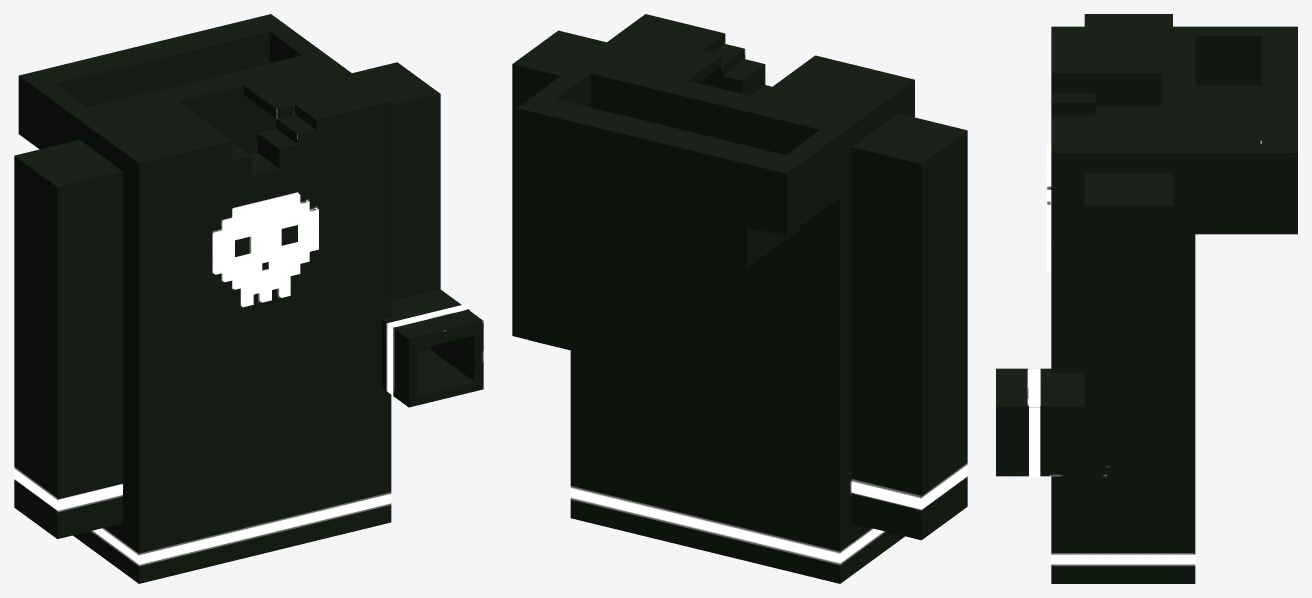
Rendered from skull_hoodie.glb.
3 renders of one model, left to right at view 1: azimuth 30°, elevation 25°; view 2: azimuth 150°, elevation 25°; view 3: azimuth 270°, elevation 25°, orthographic. The views are drawn at different scales.
Visible parts, largest first — view 1: hoodie_skull.001; view 2: hoodie_skull.001; view 3: hoodie_skull.001.
Part boxes in pixels (x1=…): hoodie_skull.001: x1=14, y1=14, x2=483, y2=583; hoodie_skull.001: x1=512, y1=14, x2=967, y2=583; hoodie_skull.001: x1=996, y1=14, x2=1297, y2=583.
Size of the model in its own units: 4.13 by 4.3 by 2.73.
1 material, 1 textured.
